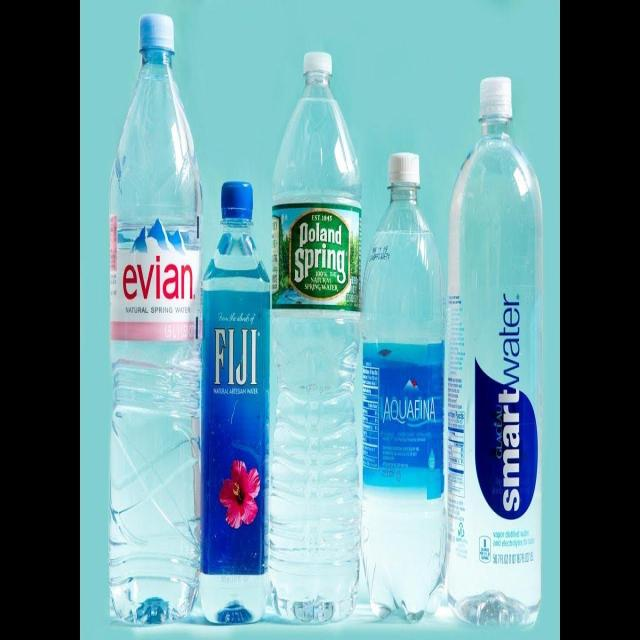bottle: (107, 3, 203, 636), (269, 0, 360, 632), (450, 69, 544, 627), (363, 151, 447, 629), (198, 175, 274, 630)
